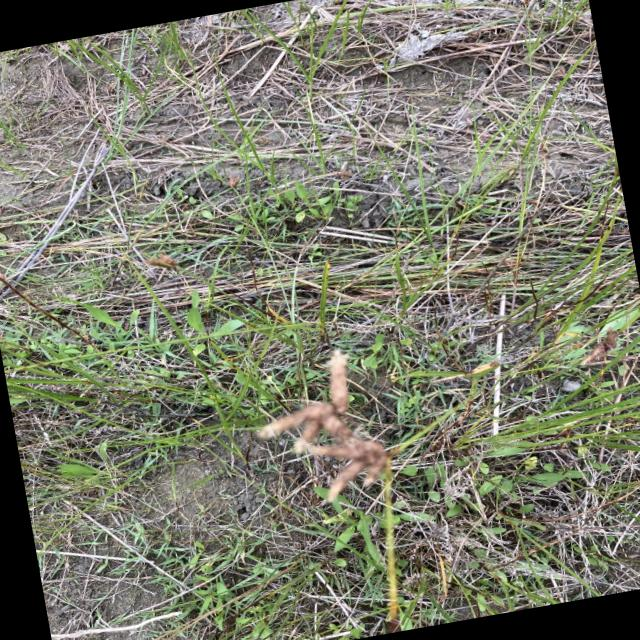cyperus: (250, 333, 424, 514), (570, 322, 628, 378), (138, 243, 186, 279)
